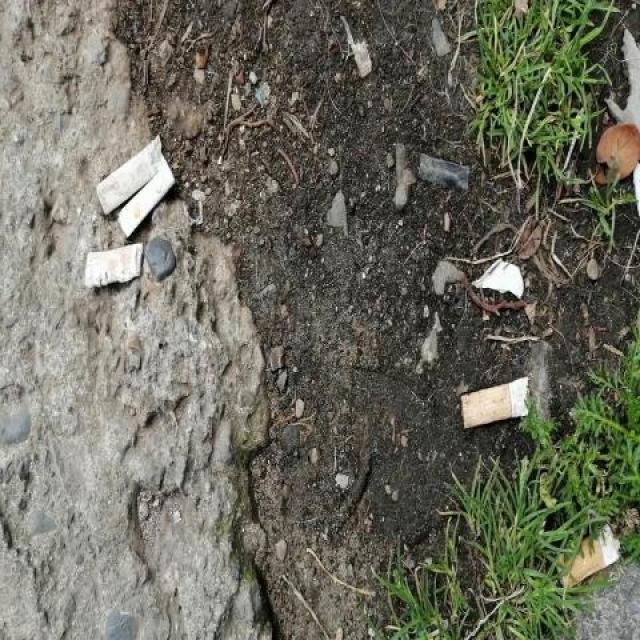non-organic waste: (93, 130, 164, 218), (556, 516, 624, 593), (113, 156, 176, 236), (458, 369, 533, 432), (79, 239, 153, 294)
